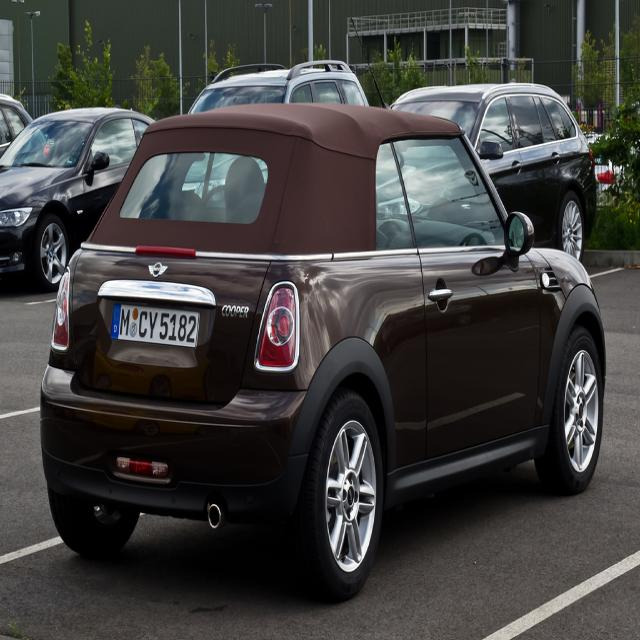car: (32, 0, 618, 620)
